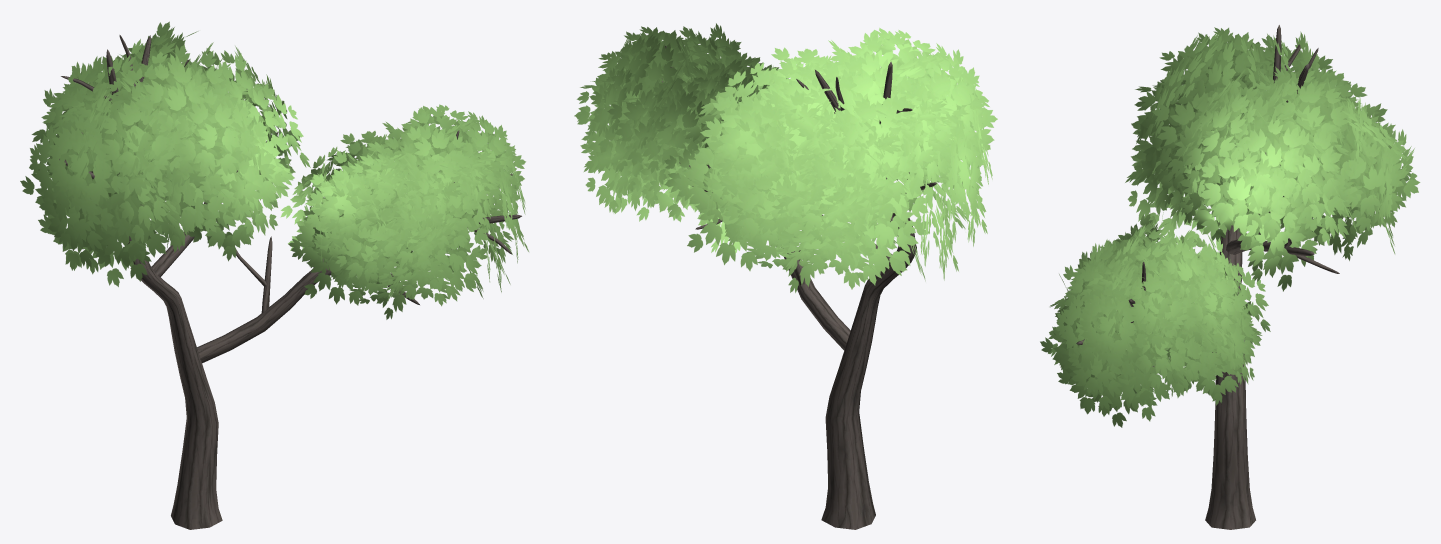
The model's file is street-tree-8.glb.
3 views of the same model, side by side, from view 1: azimuth 30°, elevation 25°; view 2: azimuth 150°, elevation 25°; view 3: azimuth 270°, elevation 25° (orthographic). The views are drawn at different scales.
Parts seen in each view (by area): view 1: MapleTree_1; view 2: MapleTree_1; view 3: MapleTree_1.
Part boxes in pixels (box(x1,y1,x2,y2)): MapleTree_1: box(20, 21, 528, 529); MapleTree_1: box(574, 23, 997, 529); MapleTree_1: box(1040, 25, 1420, 529).
Size of the model in its own units: 6.23 by 6.64 by 4.9.
Materials: 2 (2 with a texture image).
